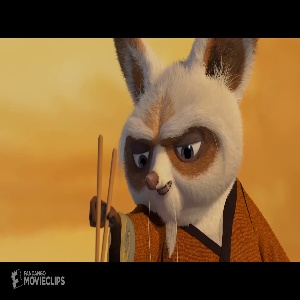shifu: (90, 37, 292, 262)
